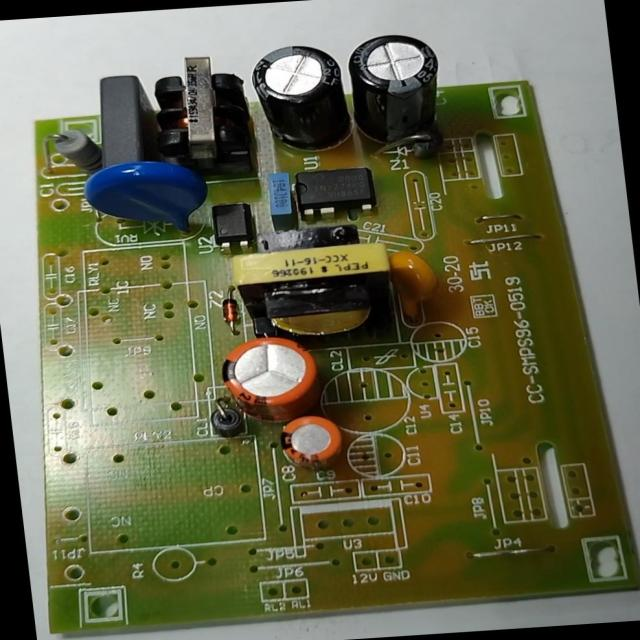Cap1: (215, 330, 322, 427)
Cap2: (278, 414, 345, 468)
Cap3: (245, 40, 354, 155)
Cap4: (344, 29, 445, 139)
MOSFET: (292, 164, 374, 216)
Mov: (79, 158, 209, 234)
Resistor: (145, 48, 254, 175), (49, 124, 99, 172)
Transformer: (225, 219, 403, 340)
